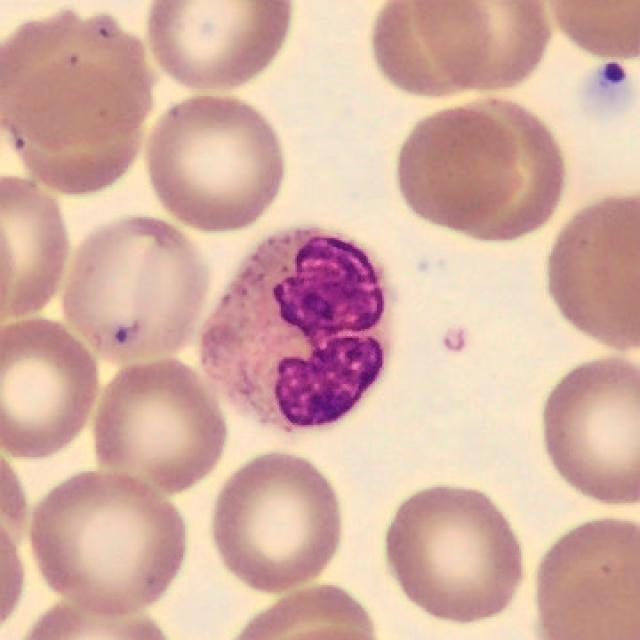Neutrofilo segmentado: (203, 229, 382, 428)
